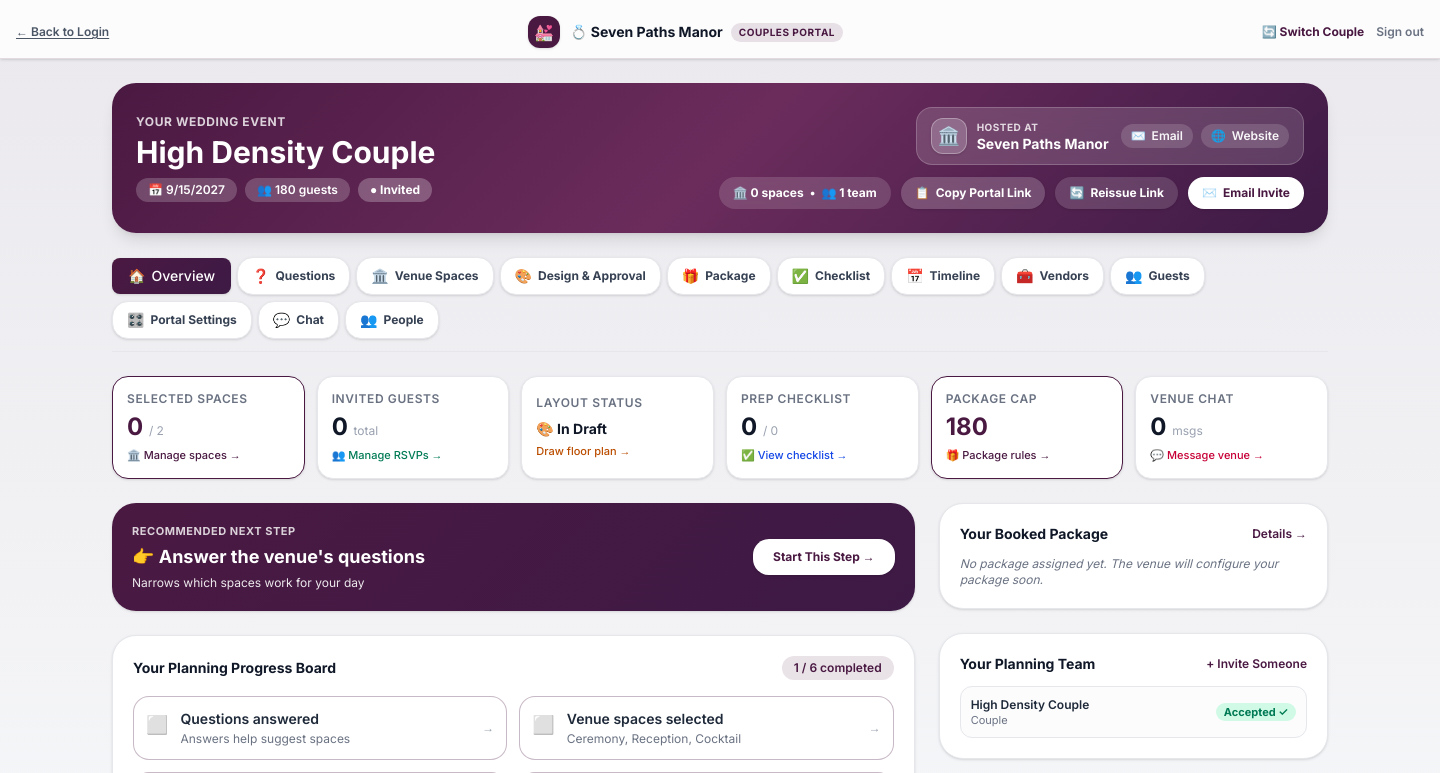
Test: CouplesPortal - High-Density Executive Layout & Usability (#158) › renders Venue Spaces in a multi-column grid with direct Design Floor Plan action buttons
Navigate to Venue Spaces tab
What coordinates should you click on to do the following:
click the tab "🏛️ Venue Spaces"
I would click on:
 (425, 276)
Its box is top-left (356, 257), bottom-right (494, 295).
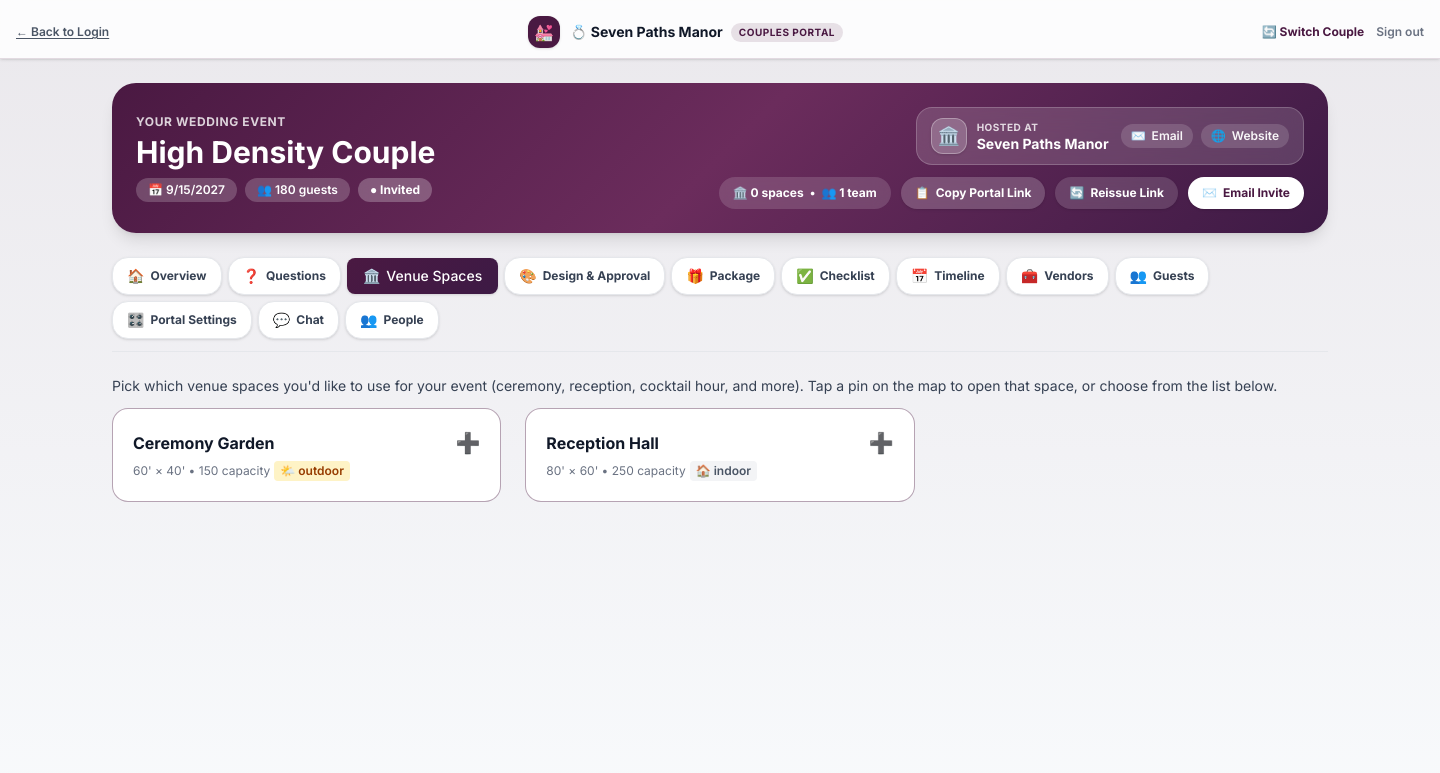
Check: the text "Ceremony Garden" is shown
Check: the text "Reception Hall" is shown, box top-left (546, 431), bottom-right (659, 455)
Select Ceremony Garden and verify the 1-click Design Floor Plan button appears
What coordinates should you click on to do the following:
click the text "Ceremony Garden"
I would click on:
 (204, 443)
Its box is top-left (133, 431), bottom-right (274, 455).
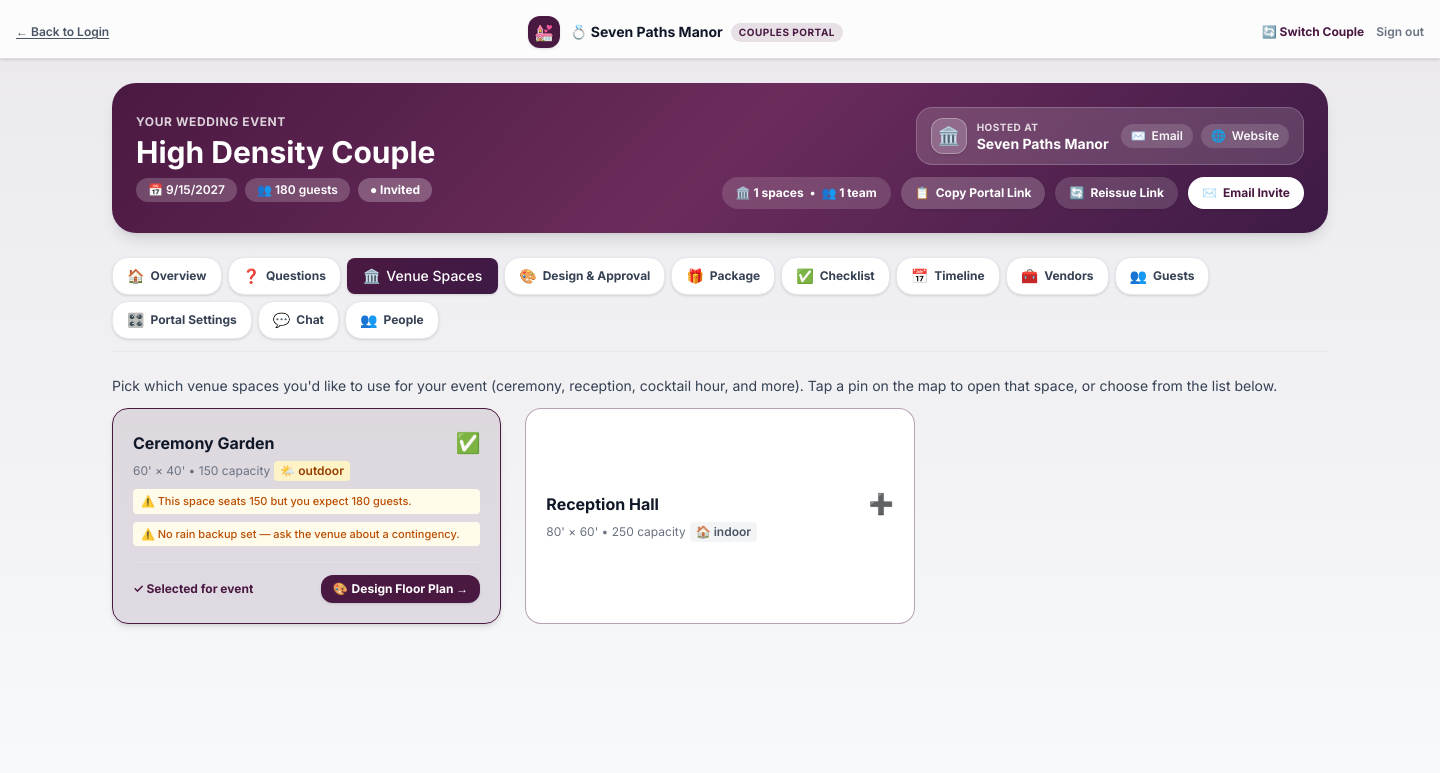
Check: the button "🎨 Design Floor Plan →" is shown, box top-left (321, 575), bottom-right (480, 603)
